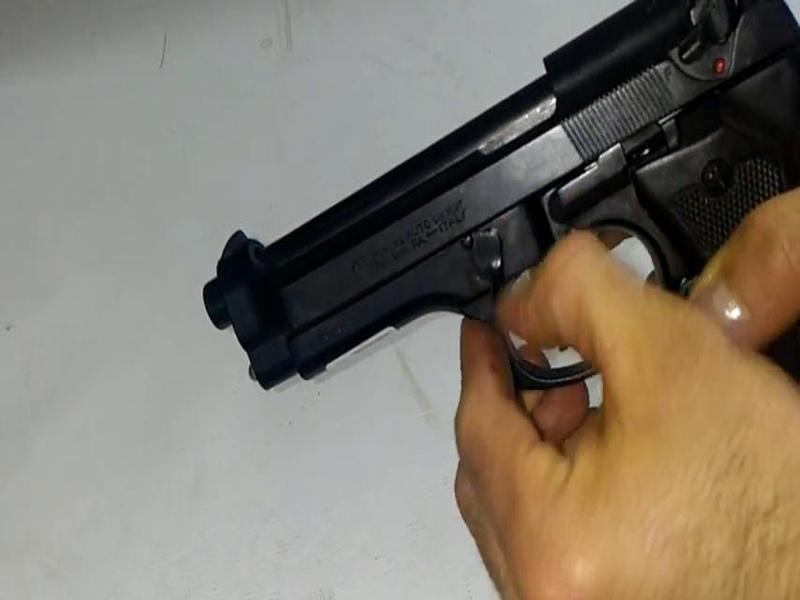Pistola: (176, 1, 799, 455)
